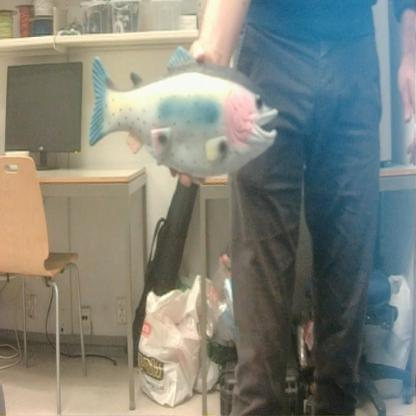rubberfish: (80, 40, 282, 181)
